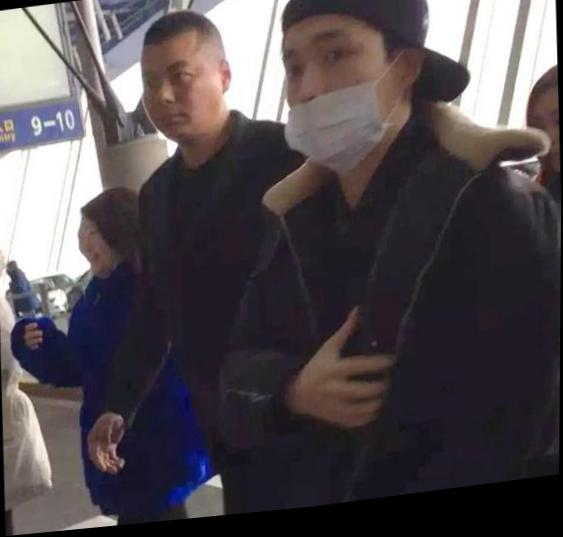NONE: (140, 58, 215, 144), (77, 217, 124, 278), (531, 113, 562, 188)
WRONG: (277, 20, 418, 171)
